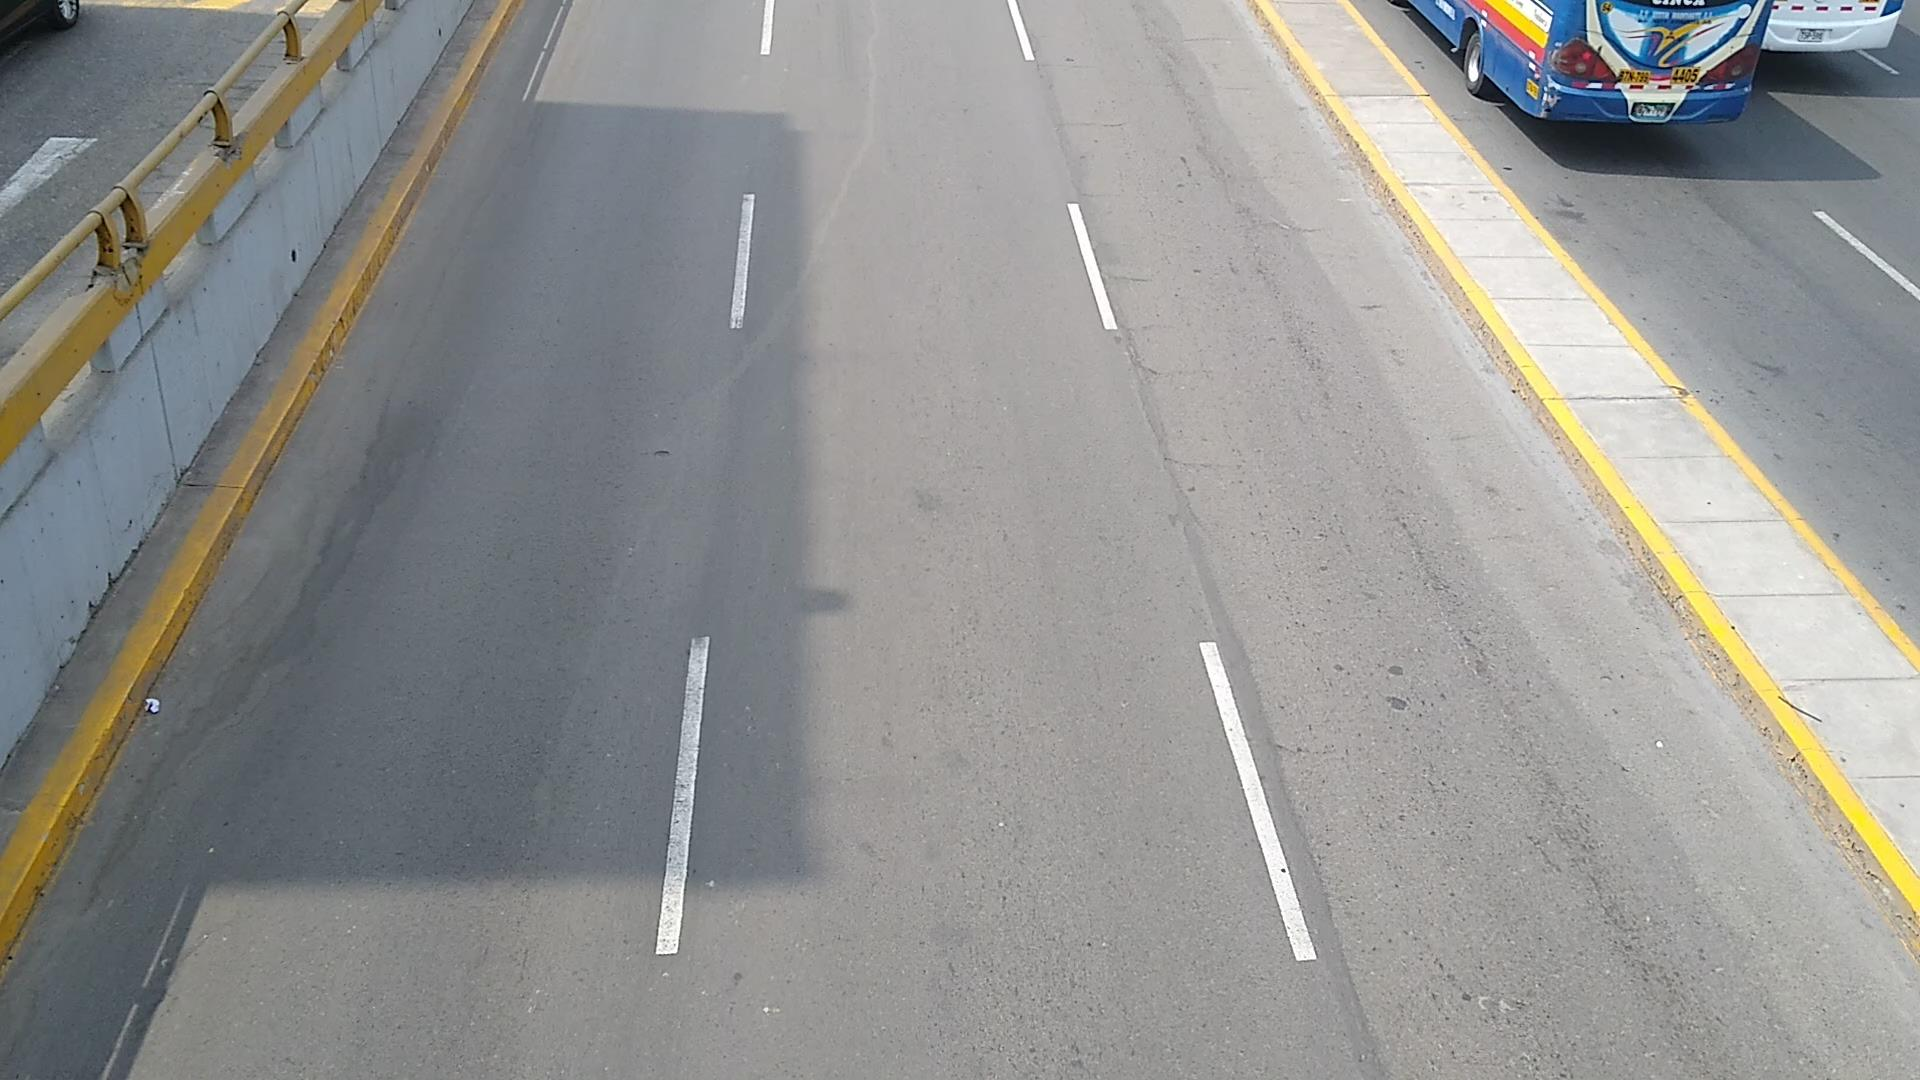bus: (1410, 0, 1770, 124)
